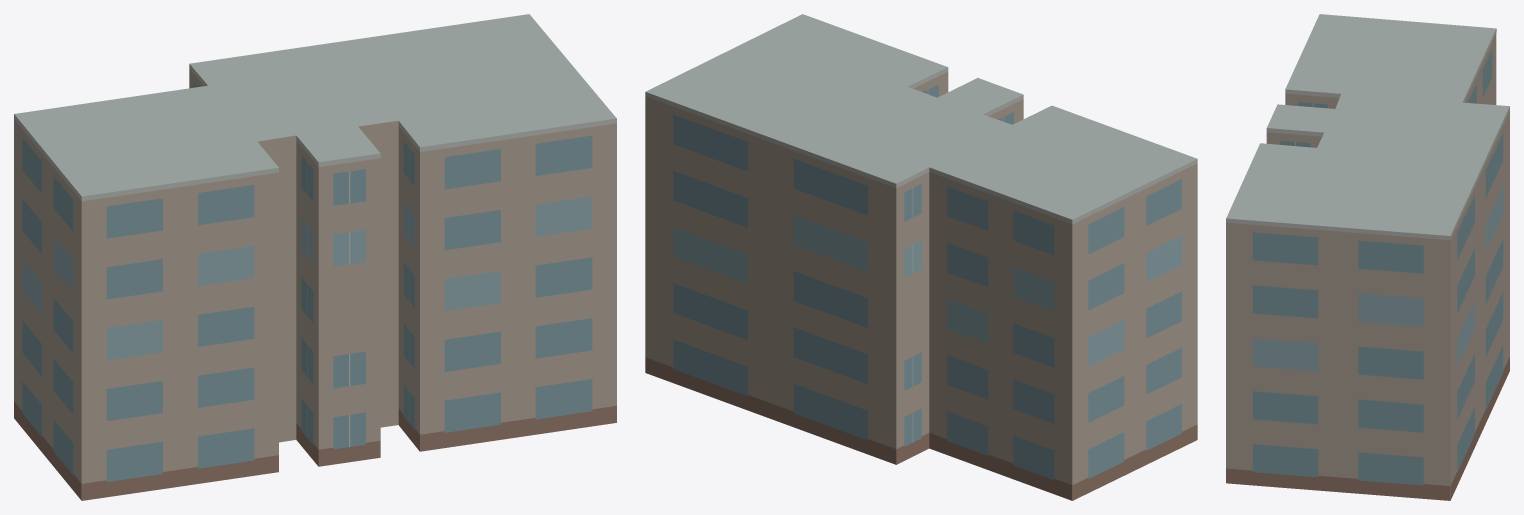
The model's file is survey-upis-32992395.glb.
3 views of the same model, side by side, from view 1: azimuth 30°, elevation 25°; view 2: azimuth 150°, elevation 25°; view 3: azimuth 270°, elevation 25° (orthographic). The views are drawn at different scales.
Visible parts, largest first — view 1: survey-upis-32992395.tmp; view 2: survey-upis-32992395.tmp; view 3: survey-upis-32992395.tmp.
Boxes of the visible parts, left/top/right/bottom form: survey-upis-32992395.tmp: left=14, top=14, right=616, bottom=500; survey-upis-32992395.tmp: left=645, top=14, right=1197, bottom=500; survey-upis-32992395.tmp: left=1226, top=14, right=1509, bottom=500.
Size of the model in its own units: 27.43 by 15.25 by 14.82.
